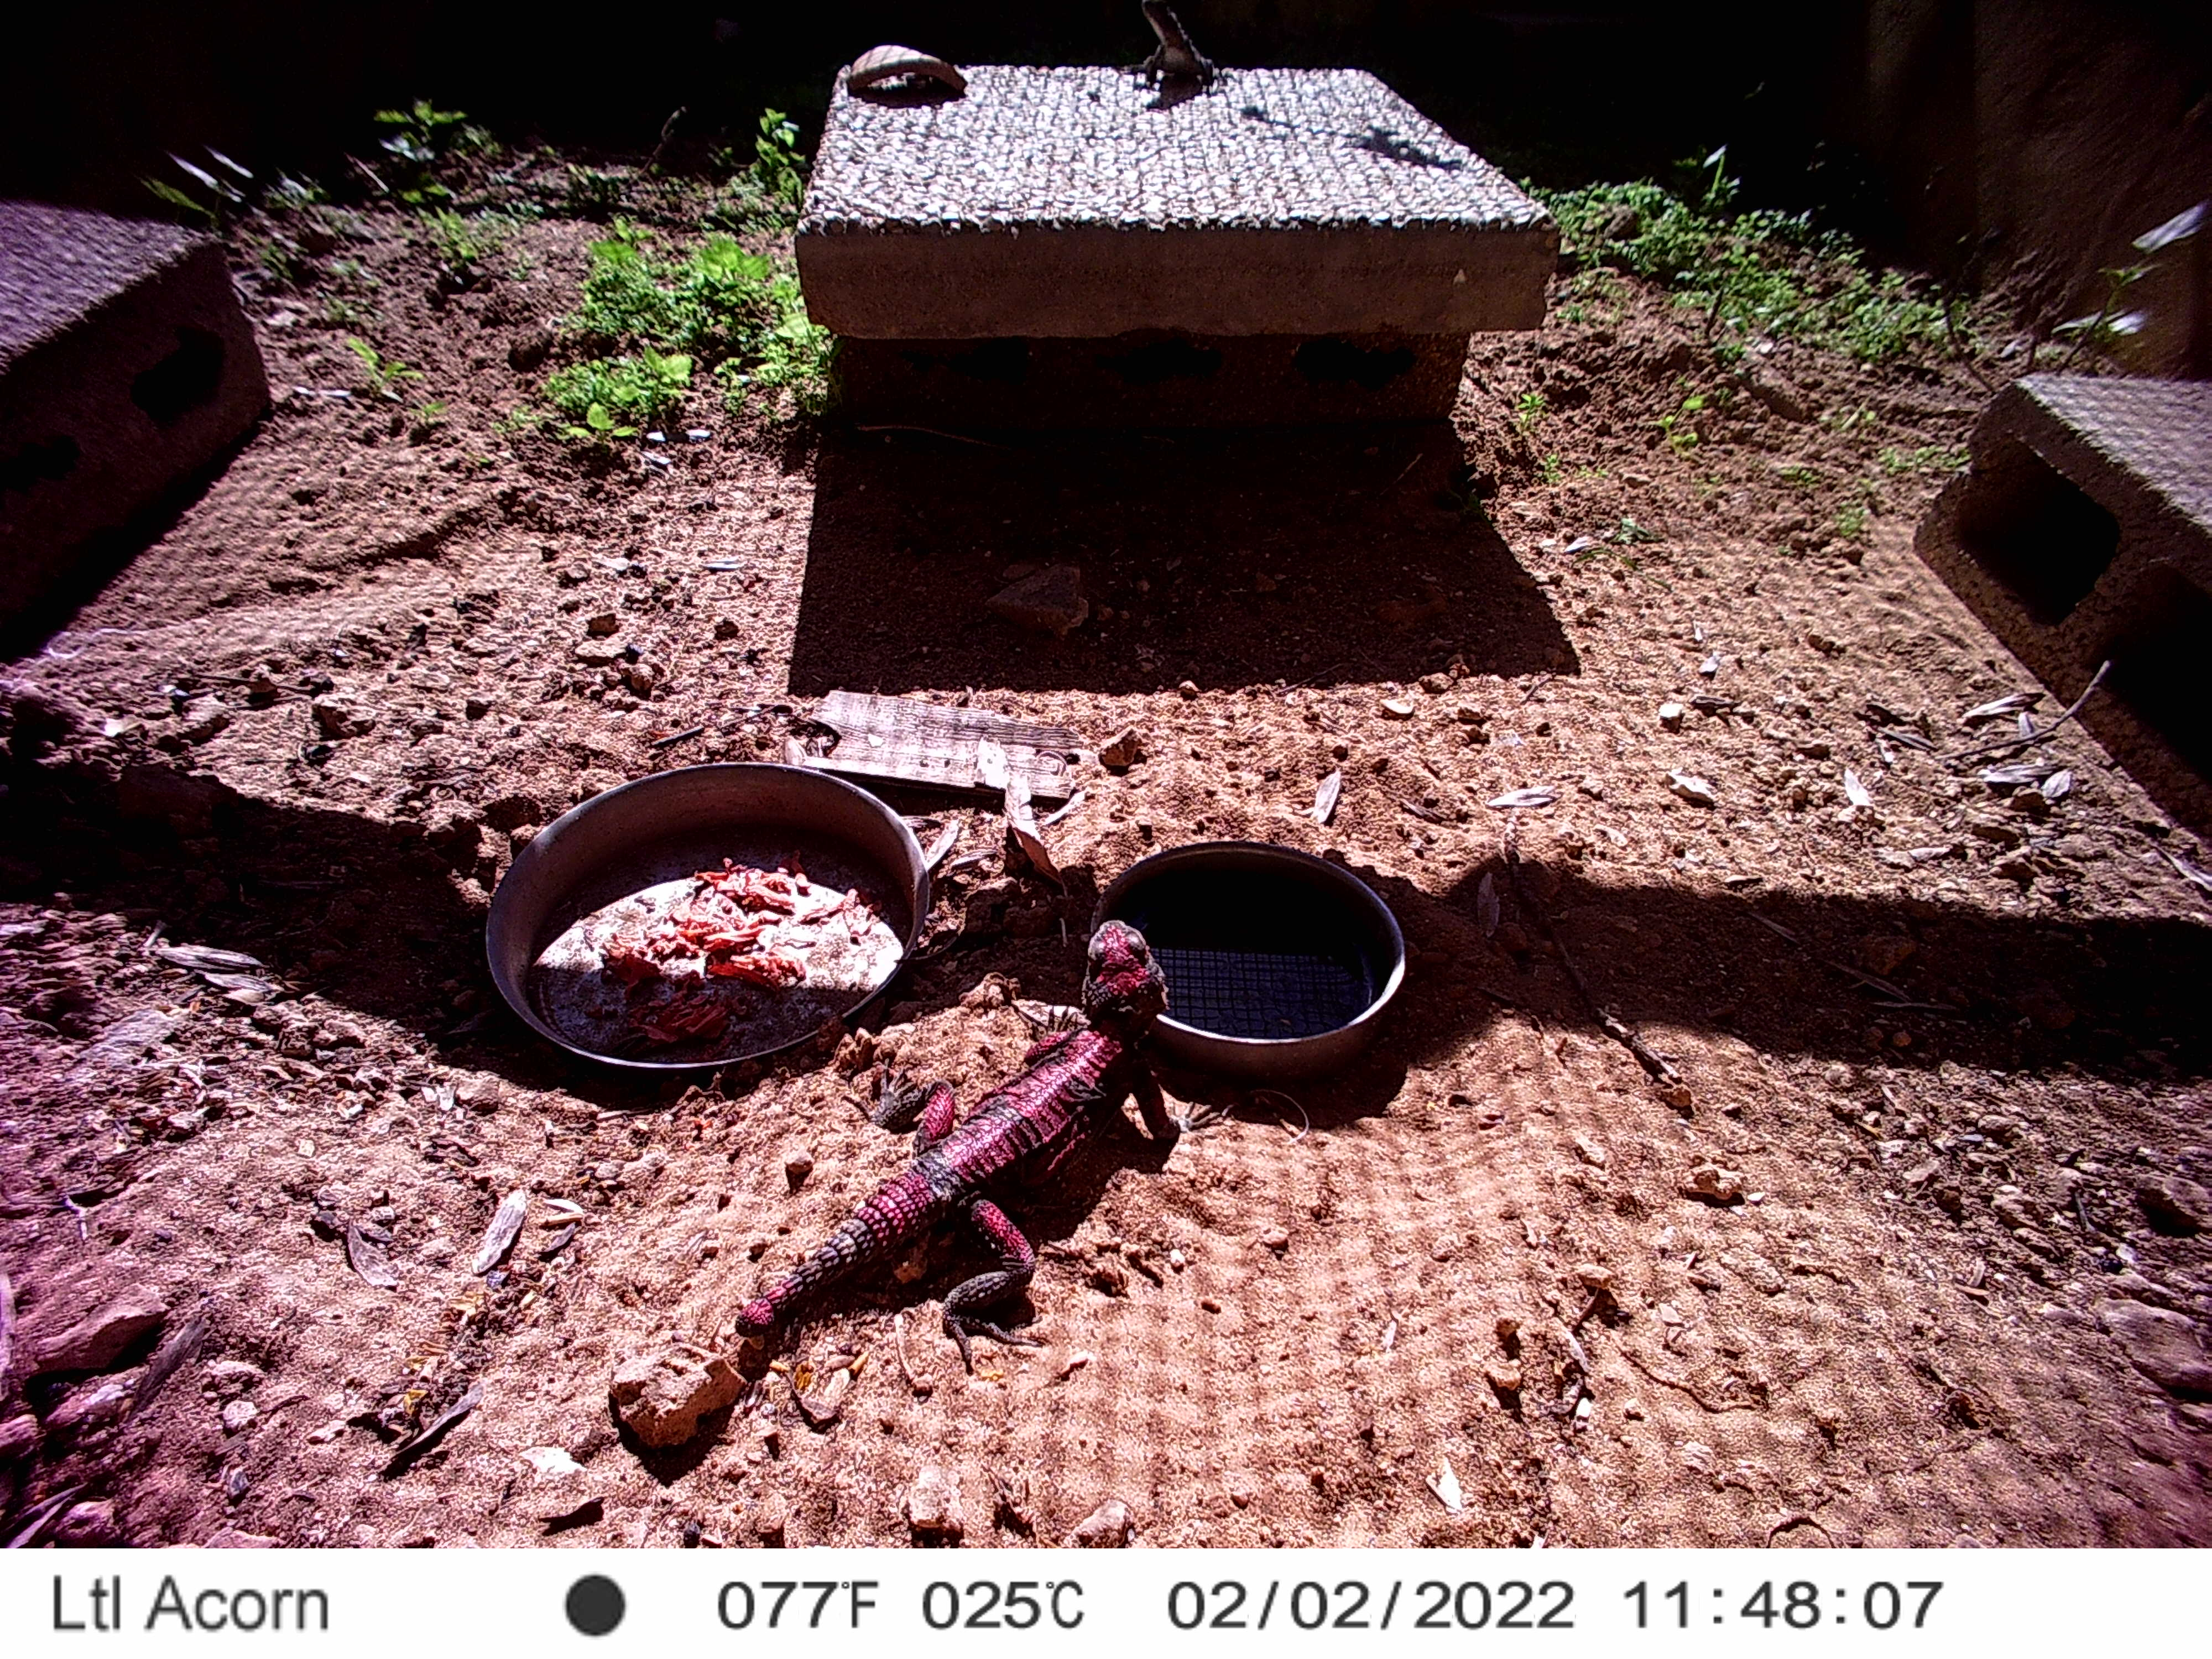lizard: (728, 917, 1207, 1384), (1111, 2, 1245, 103)
